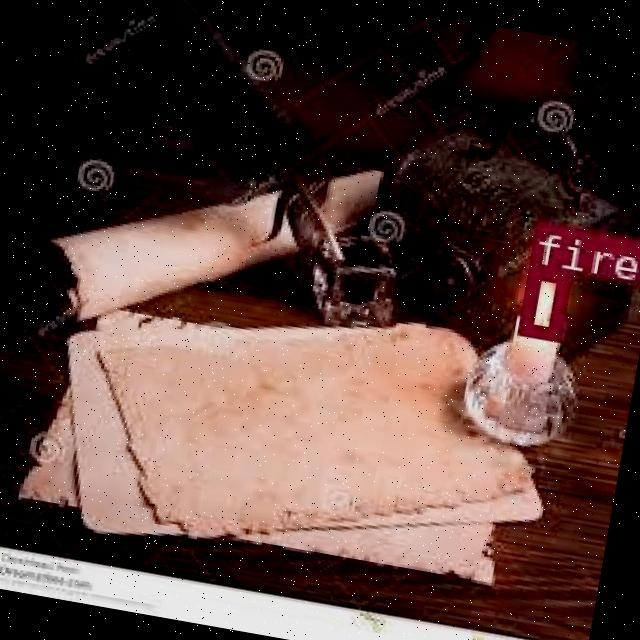fire: (514, 263, 568, 338)
